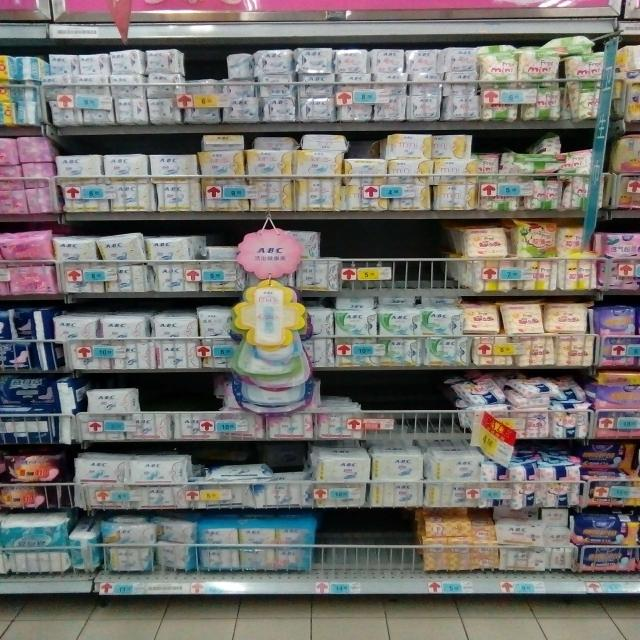void: (360, 510, 413, 595), (383, 216, 440, 292), (410, 374, 462, 451), (370, 378, 412, 454), (322, 515, 357, 598), (346, 221, 382, 294)
